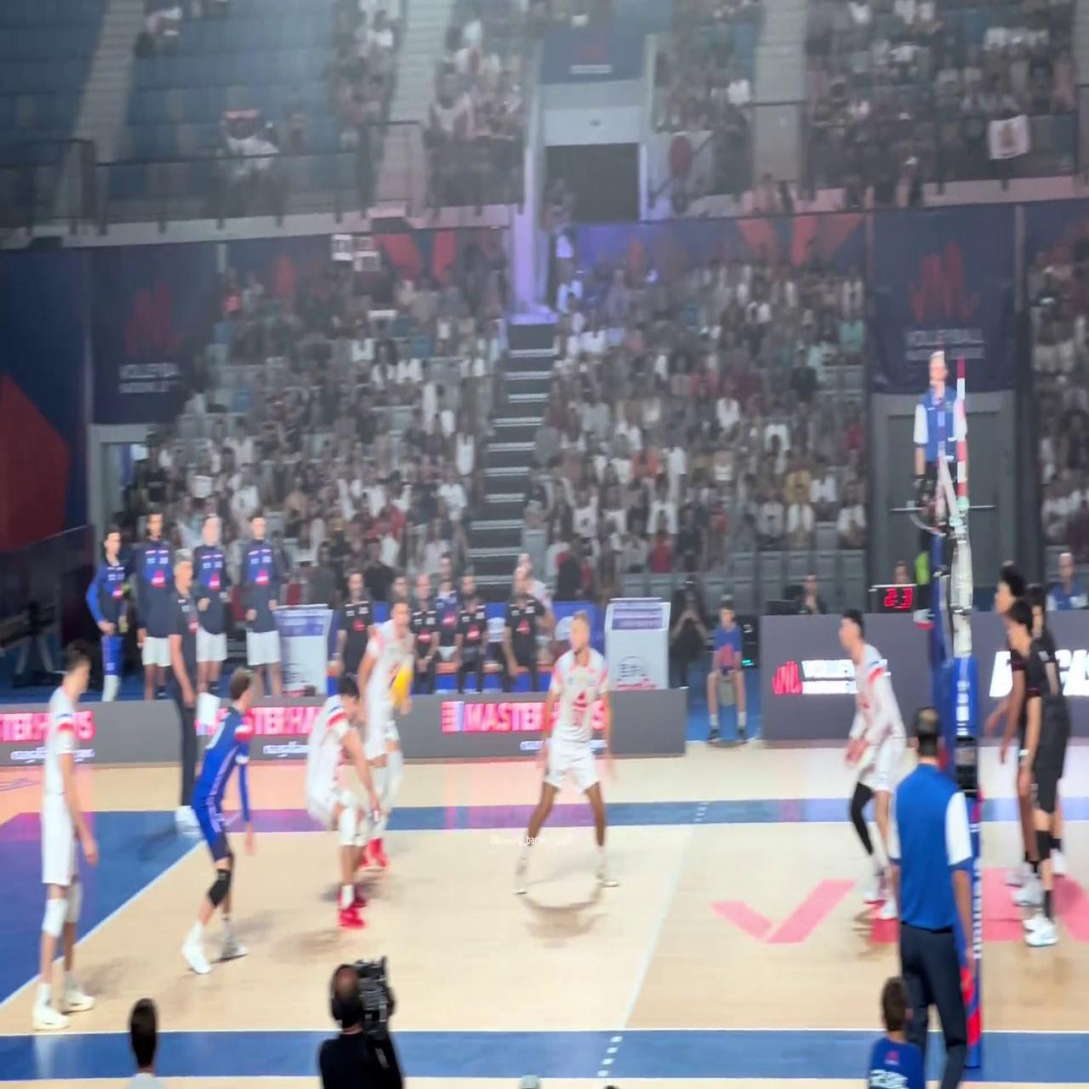ball: (390, 663, 413, 706)
